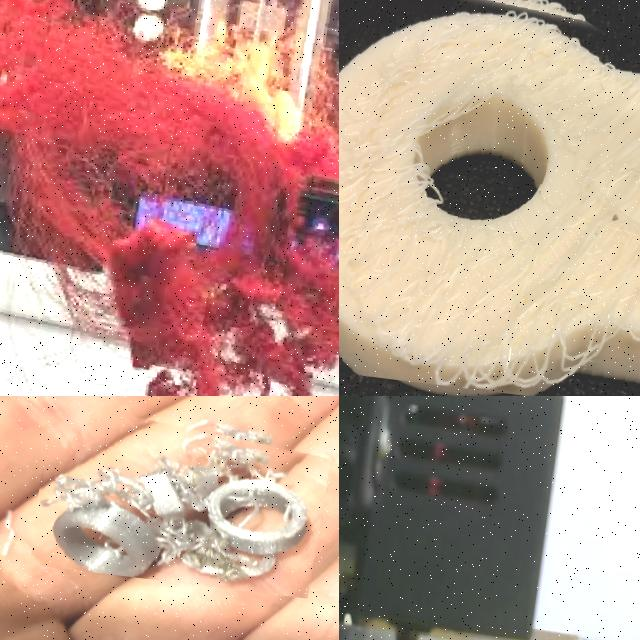spaghetti: (339, 0, 640, 396), (29, 398, 333, 598)
